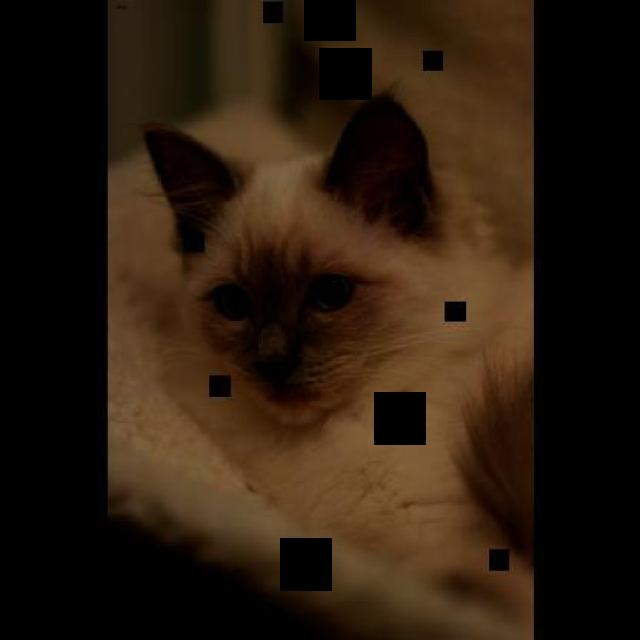unauthorized: (114, 83, 532, 639)
